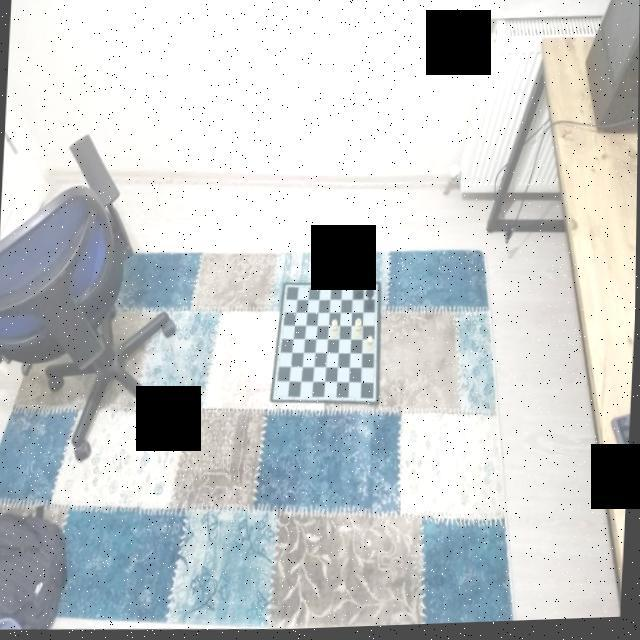chess-table-corners: (369, 396, 378, 406), (285, 285, 293, 294), (372, 285, 379, 294), (274, 394, 281, 402)
